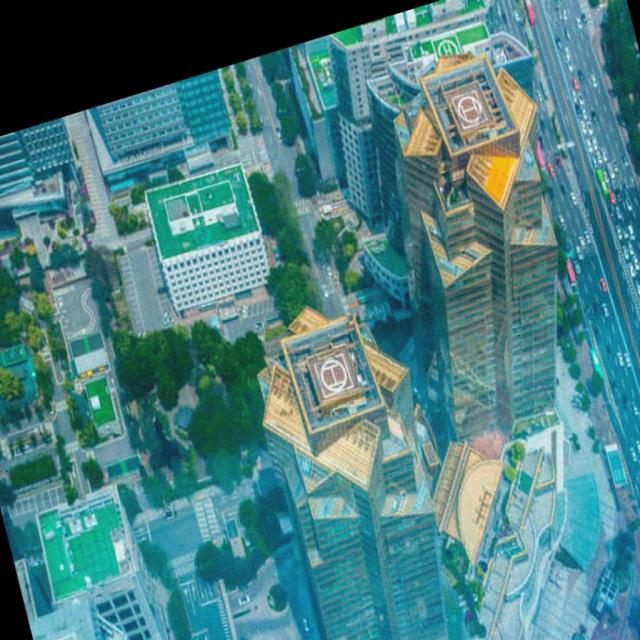helipad: (318, 357, 348, 393), (456, 95, 481, 124), (438, 38, 458, 58)
